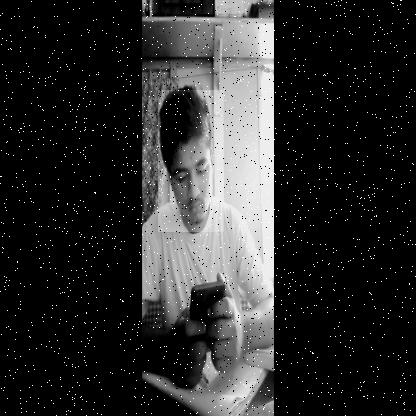Normal: (158, 90, 224, 232)
